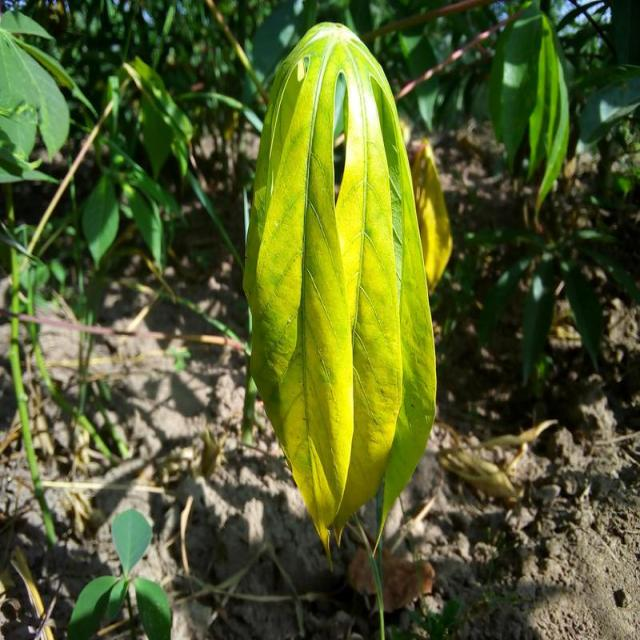cassava leaf: (242, 19, 438, 570)
